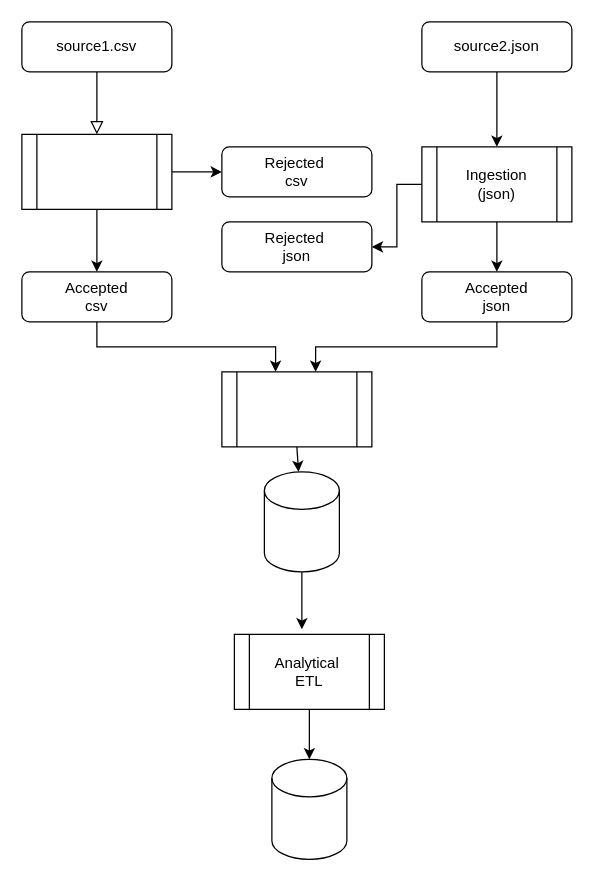
Some shapes in this 594 by 881 pixel diagram are drawn without their labels. The shapes that lost their labels are listed below. From the top down, each one's centre as x and y in pixels, then its label:
At point (96, 171): "Ingestion (csv)".
At point (296, 409): "EOD Load (Accept)".
At point (301, 521): "EOD Trade Quote".
At point (309, 808): "quote-trade-analytical".
